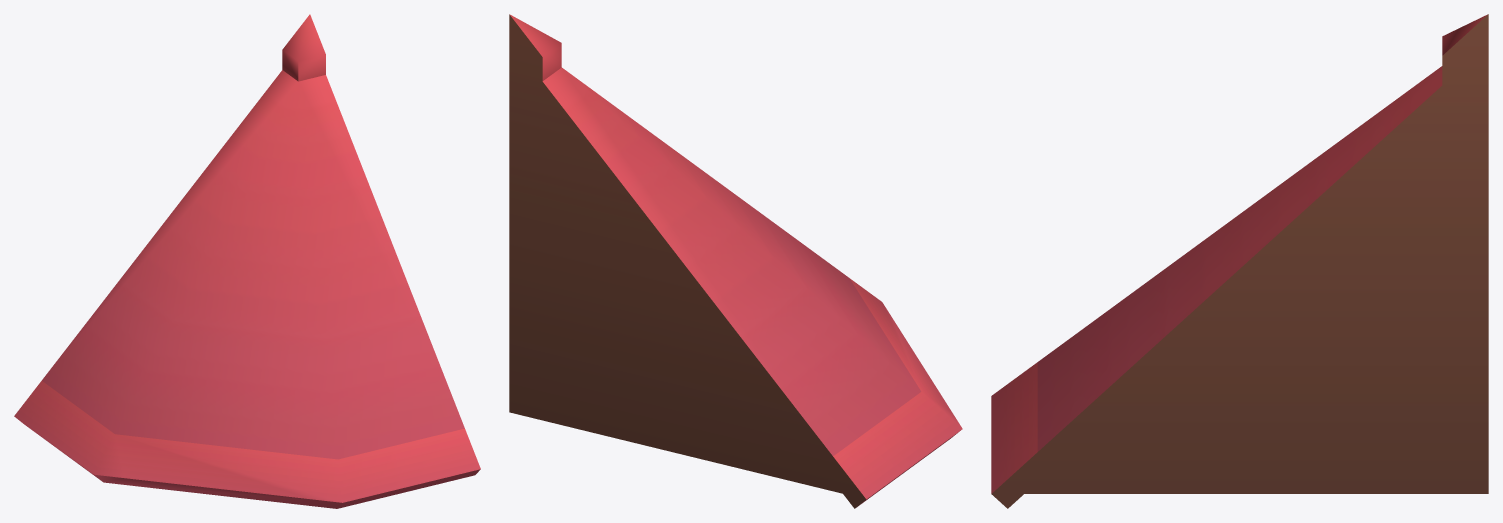
Rendered from roof-high-corner-round.glb.
The picture shows the model from 3 angles, left to right: view 1: azimuth 30°, elevation 25°; view 2: azimuth 150°, elevation 25°; view 3: azimuth 270°, elevation 25°; orthographic projection. The views are drawn at different scales.
Parts seen in each view (by area): view 1: roof-high-corner-round; view 2: roof-high-corner-round; view 3: roof-high-corner-round.
Boxes of the visible parts, x1,y1,x2,y2 form: roof-high-corner-round: (14,14,480,508); roof-high-corner-round: (509,14,962,508); roof-high-corner-round: (991,14,1488,508).
Size of the model in its own units: 1.07 by 1.18 by 1.07.
Materials: 1 (1 with a texture image).
